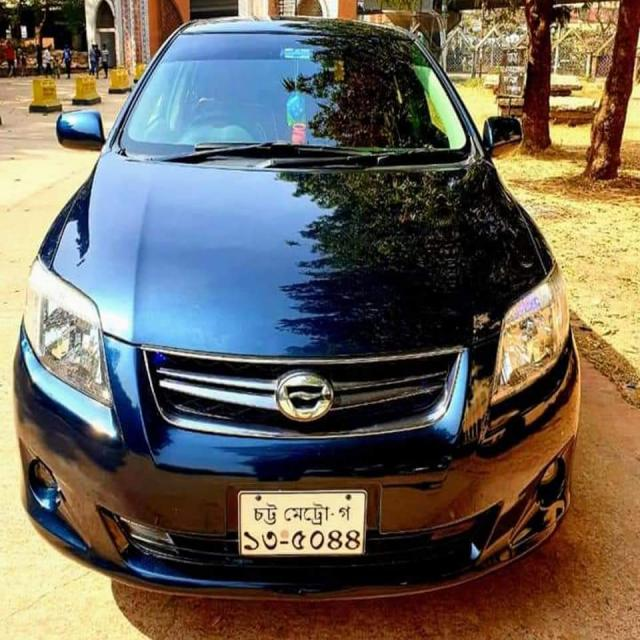black: (18, 14, 575, 595)
